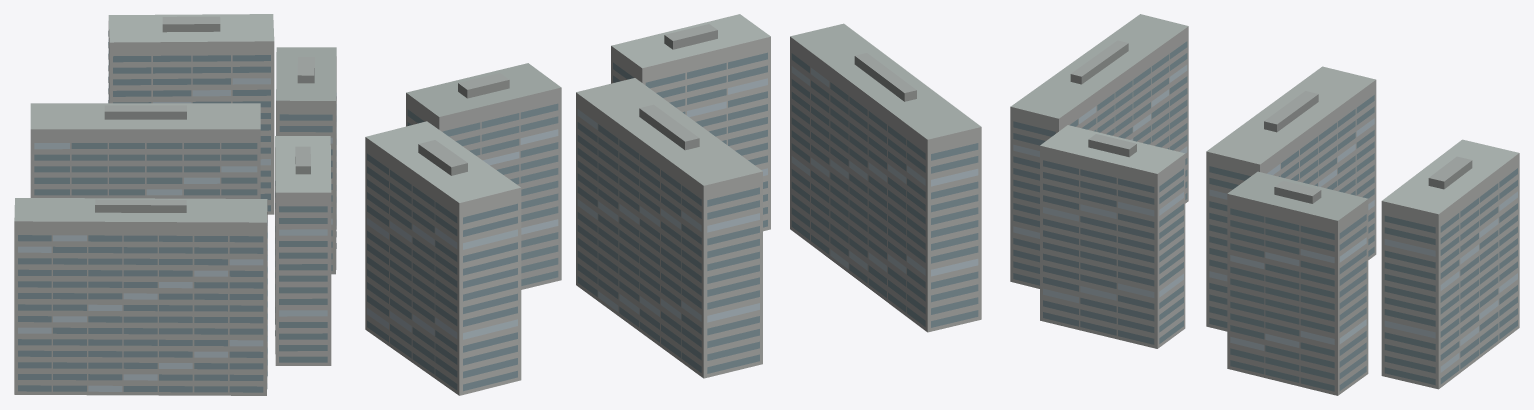
Rendered from apt-a15004406.glb.
The picture shows the model from 3 angles, left to right: view 1: azimuth 30°, elevation 25°; view 2: azimuth 150°, elevation 25°; view 3: azimuth 270°, elevation 25°; orthographic projection. The views are drawn at different scales.
Parts seen in each view (by area): view 1: apt-a15004406; view 2: apt-a15004406; view 3: apt-a15004406.
Boxes of the visible parts, box(x1,y1,x2,y2) form: apt-a15004406: box(14, 14, 336, 395); apt-a15004406: box(365, 14, 981, 395); apt-a15004406: box(1010, 14, 1519, 395).
Bounding box in the file's own units: 116 × 47.81 × 121.
